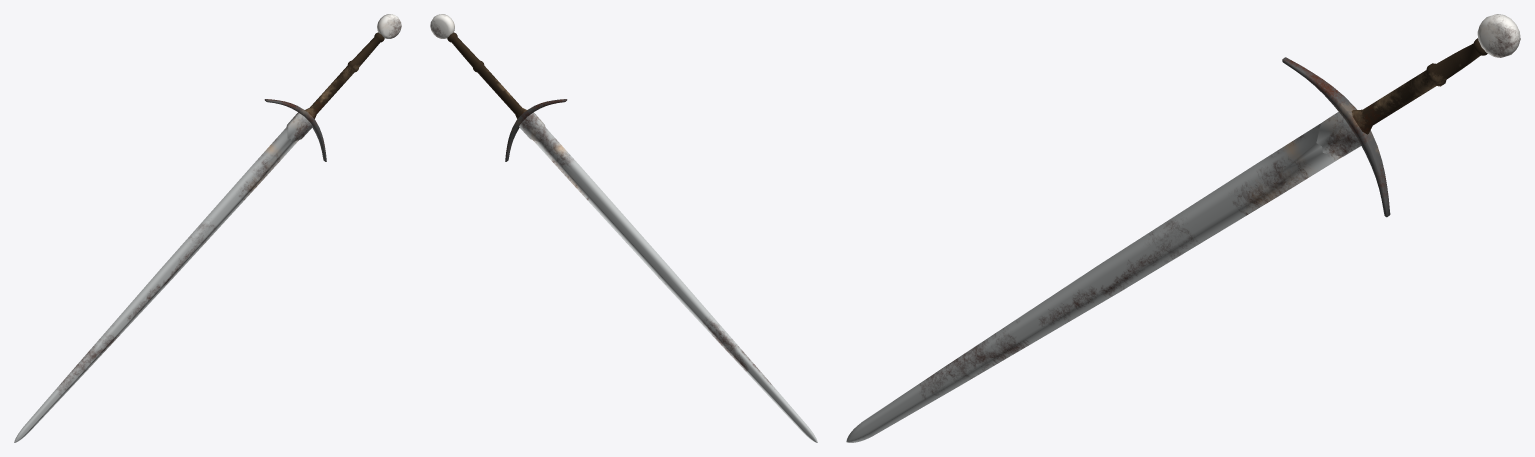
The model's file is sword.glb.
3 renders of one model, left to right at view 1: azimuth 30°, elevation 25°; view 2: azimuth 150°, elevation 25°; view 3: azimuth 330°, elevation 25°, orthographic. The views are drawn at different scales.
Visible parts, largest first — view 1: Plane003__0; view 2: Plane003__0; view 3: Plane003__0.
Boxes of the visible parts, x1,y1,x2,y2 form: Plane003__0: (14,14,401,442); Plane003__0: (430,14,817,442); Plane003__0: (846,14,1520,442).
Size of the model in its own units: 178 by 148 by 4.71.
1 material, 1 textured.
